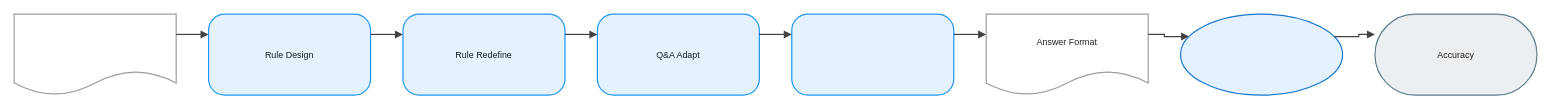
Image size: 1552x110. Some labels were removed from this diagram. Each missing label, with the centre of its shape:
"Q&A Generate" goes at point (872, 54).
"QA Check" goes at point (1261, 54).
"Source Rules" goes at point (94, 54).
